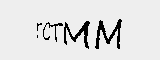Г: (31, 18, 42, 44)
М: (61, 18, 93, 50), (94, 18, 125, 51)
С: (41, 19, 53, 43)
Т: (49, 22, 64, 44)
